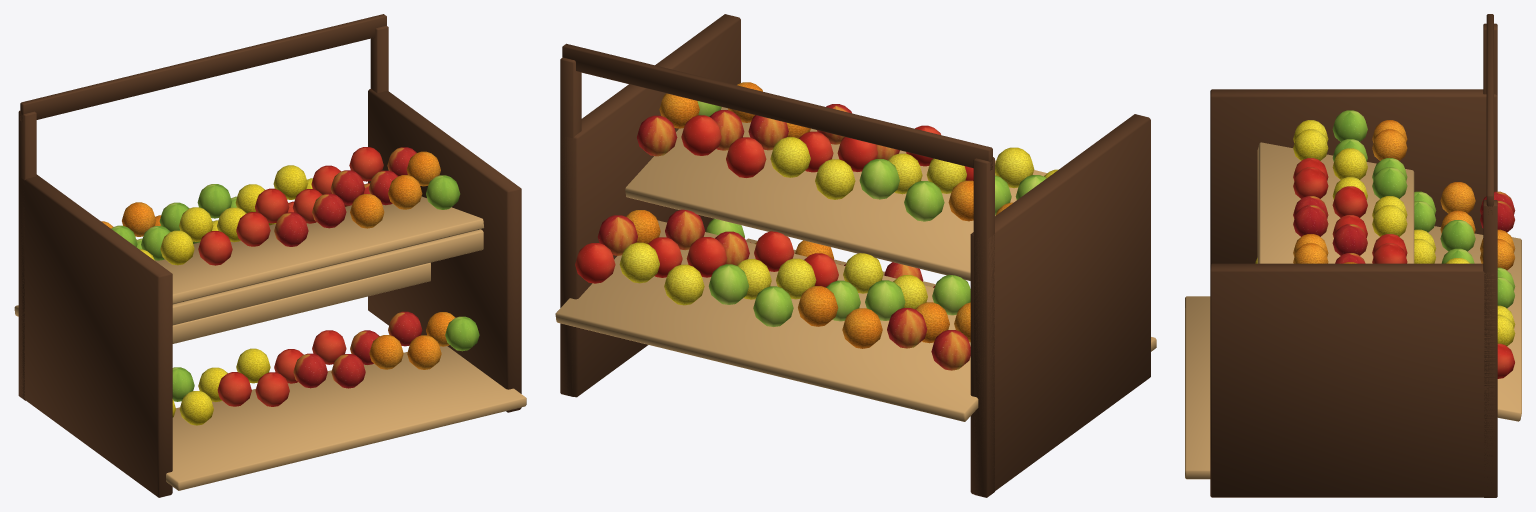
Rendered from buffet_fruit_market_stand.glb.
The picture shows the model from 3 angles, left to right: view 1: azimuth 30°, elevation 25°; view 2: azimuth 150°, elevation 25°; view 3: azimuth 270°, elevation 25°; orthographic projection. The views are drawn at different scales.
Parts seen in each view (by area): view 1: buffet_fruit_market_stand; view 2: buffet_fruit_market_stand; view 3: buffet_fruit_market_stand.
Part boxes in pixels (x1,y1,x2,y2): buffet_fruit_market_stand: [14, 14, 526, 497]; buffet_fruit_market_stand: [555, 14, 1156, 497]; buffet_fruit_market_stand: [1185, 14, 1521, 497].
Bounding box in the file's own units: 1.2 × 0.93 × 0.9378.
7 materials, 5 textured.
